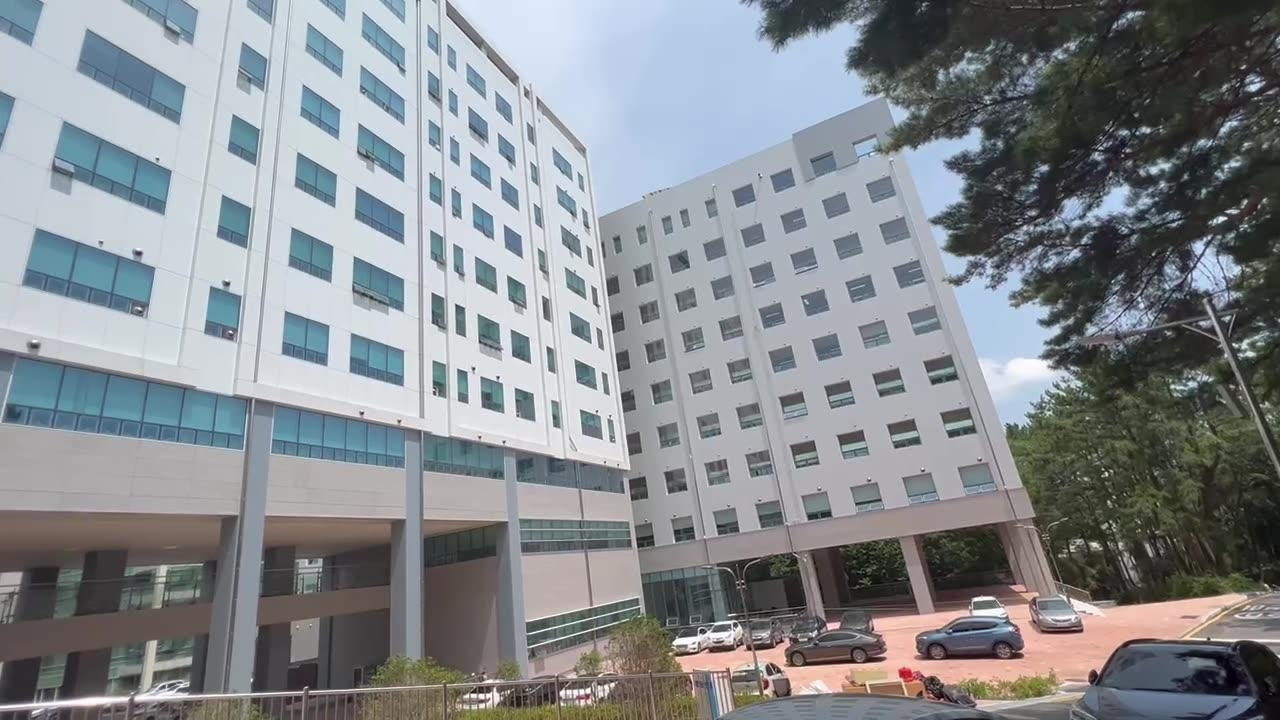building: (11, 18, 946, 594)
